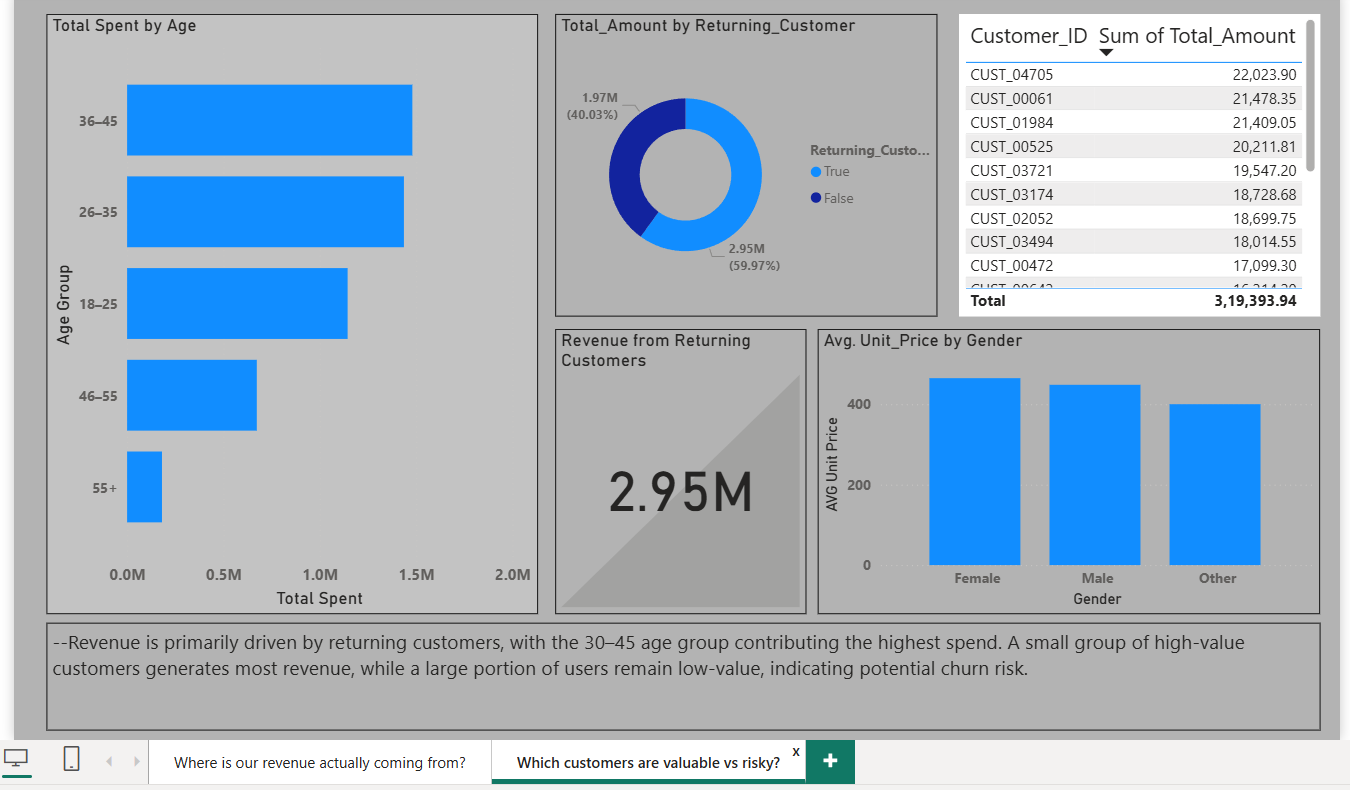

This screenshot's page, from the dashboard's own definition file:
{"tool":"powerbi","page":{"name":"Which customers are valuable vs risky?","canvas":[1280,720],"ordinal":1},"visuals":[{"type":"barChart","title":"Total Spent by Age","fields":{"Y":["Sum(Ecommerce.Total_Amount)"],"Category":["Ecommerce.Age Group"]},"box":[31.4,19.3,474.1,579.1],"z":0},{"type":"donutChart","title":"Total_Amount by Returning_Customer","fields":{"Y":["Sum(Ecommerce.Total_Amount)"],"Category":["Ecommerce.Is_Returning_Customer"]},"box":[522.4,19.3,369.2,292],"z":1000},{"type":"columnChart","title":"Avg. Unit_Price by Gender","fields":{"Y":["Avg(Ecommerce.Unit_Price)"],"Category":["Ecommerce.Gender"]},"box":[775.7,323.3,485,275.1],"z":2000},{"type":"tableEx","fields":{"Values":["Ecommerce.Customer_ID","Sum(Ecommerce.Total_Amount)"]},"box":[912.1,19.3,348.7,292],"z":3000},{"type":"textbox","box":[31.4,606.8,1229.4,103.8],"z":4000},{"type":"kpi","title":"Revenue from Returning Customers","fields":{"Indicator":["Sum(Ecommerce.Total_Amount)"],"TrendLine":["Ecommerce.Is_Returning_Customer"]},"box":[522.4,323.3,242.5,275.1],"z":5000}]}

Visuals, with their boxes in screenshot pixels (x1, y1, x2, y2):
"Total Spent by Age" barChart: box=[40, 13, 533, 615]
"Total_Amount by Returning_Customer" donutChart: box=[550, 13, 934, 317]
"Avg. Unit_Price by Gender" columnChart: box=[814, 329, 1318, 615]
tableEx - Ecommerce.Customer_ID x Sum(Ecommerce.Total_Amount): box=[956, 13, 1318, 317]
textbox: box=[40, 624, 1318, 732]
"Revenue from Returning Customers" kpi: box=[550, 329, 803, 615]
